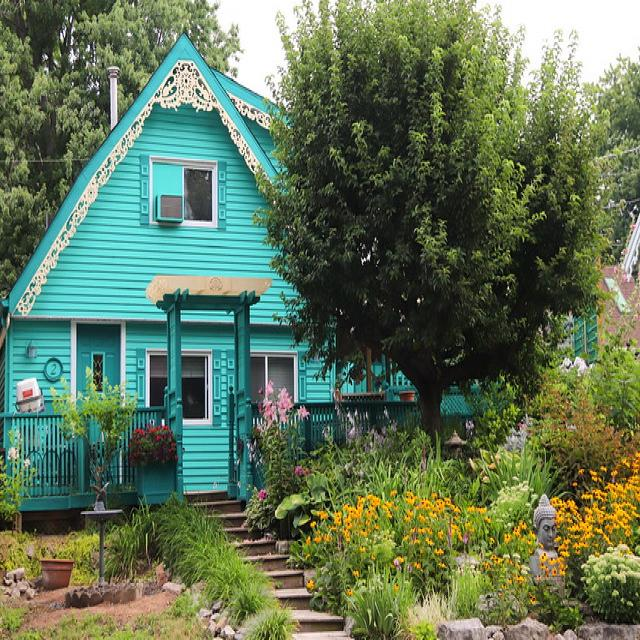Normal_building: (4, 35, 514, 508)
